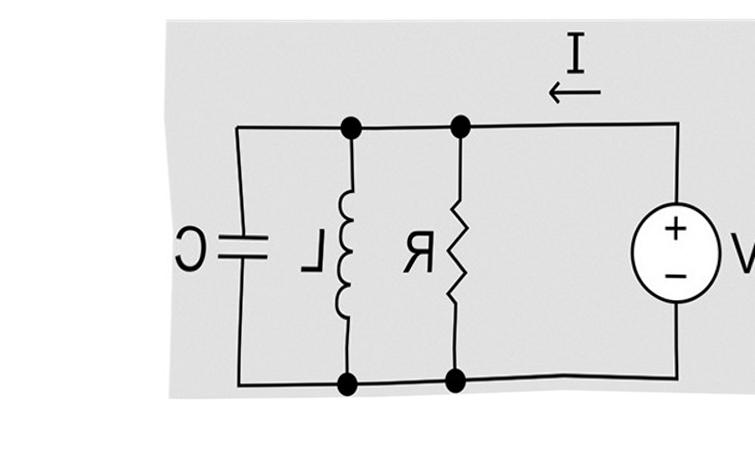Battery: (609, 199, 730, 311)
